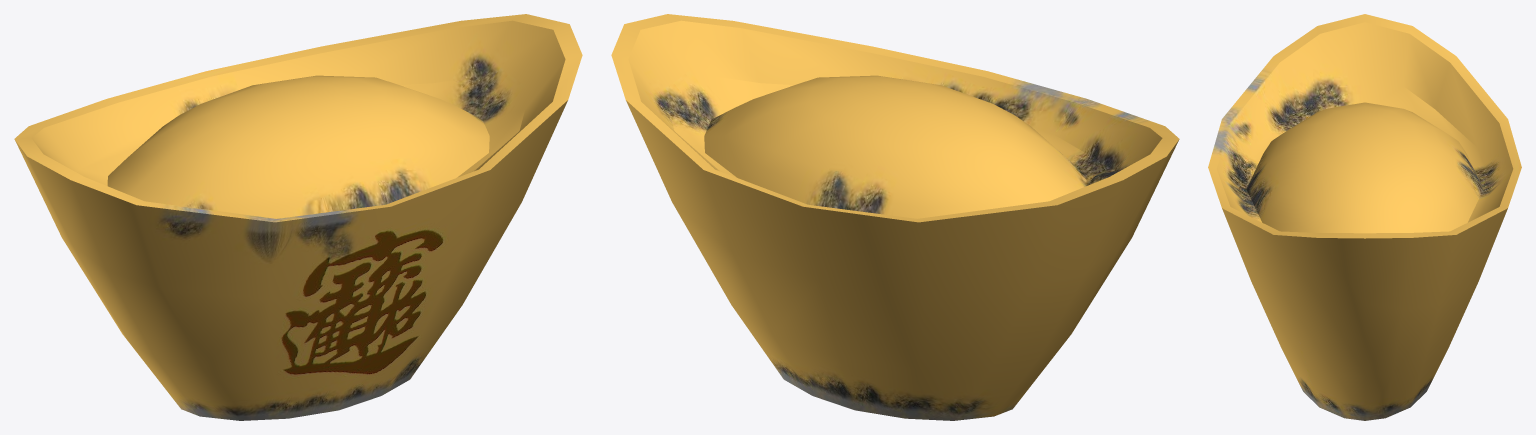
File: yuanbao.fbx
The picture shows the model from 3 angles, left to right: view 1: azimuth 30°, elevation 25°; view 2: azimuth 150°, elevation 25°; view 3: azimuth 270°, elevation 25°; orthographic projection. The views are drawn at different scales.
Parts seen in each view (by area): view 1: pCube2; view 2: pCube2; view 3: pCube2.
Boxes of the visible parts, <box> form: pCube2: <box>14,14,582,420</box>; pCube2: <box>611,14,1179,420</box>; pCube2: <box>1208,14,1521,420</box>.
Size of the model in its own units: 1.86 by 0.9492 by 1.1.
